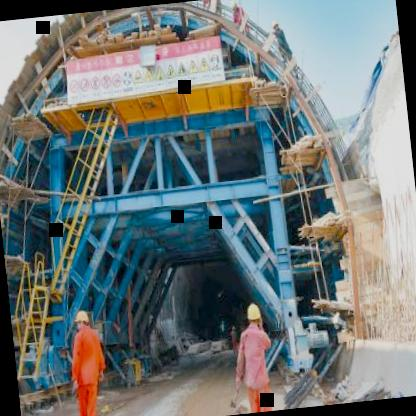helmet: (244, 299, 262, 331), (73, 306, 90, 332)
